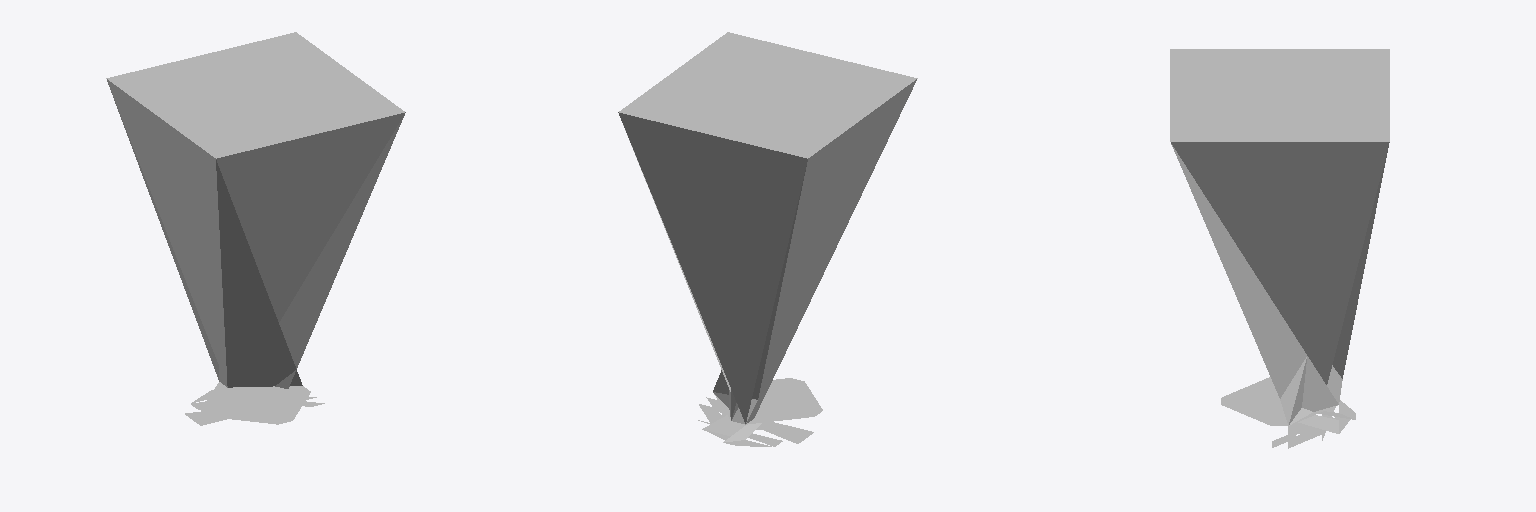
File: tree.obj
The picture shows the model from 3 angles: view 1: azimuth 30°, elevation 25°; view 2: azimuth 150°, elevation 25°; view 3: azimuth 270°, elevation 25°; orthographic projection.
Bounding box in the file's own units: 13 × 21 × 13.